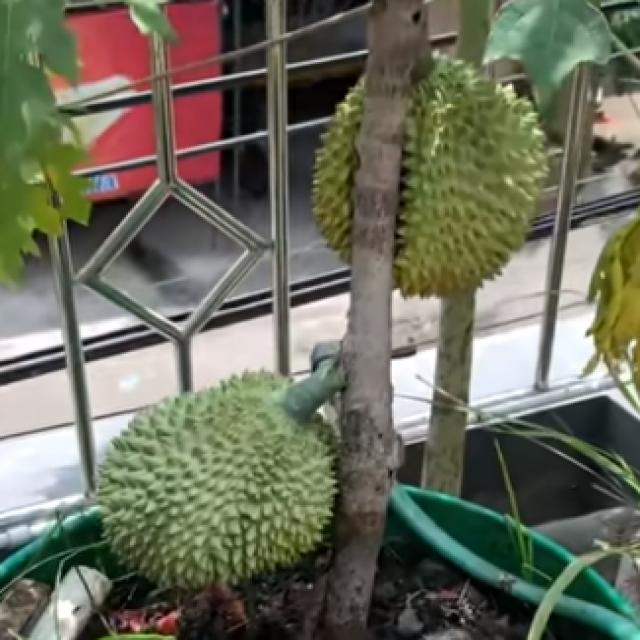immature: (305, 49, 554, 289), (91, 372, 345, 592)
